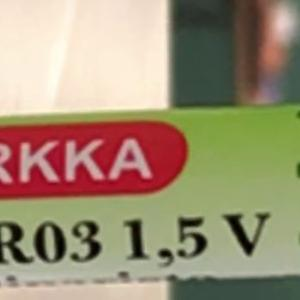keyword: (109, 203, 276, 289)
